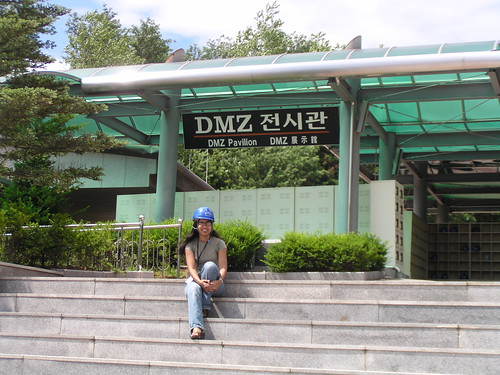person hardhat: (193, 206, 215, 237)
